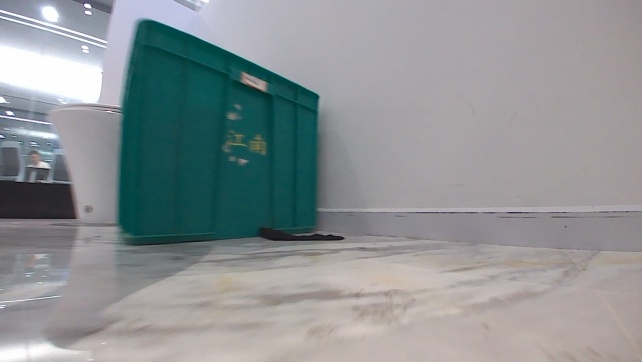socks: (254, 225, 348, 242)
toilet: (47, 100, 123, 227)
